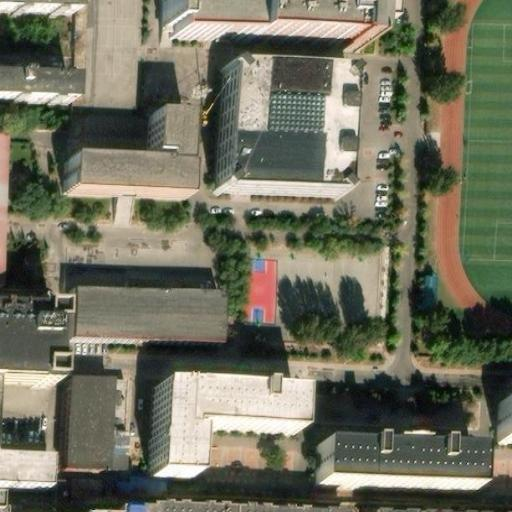building: (215, 65, 336, 196), (153, 384, 296, 478), (62, 115, 180, 198), (169, 0, 379, 43), (75, 286, 224, 343), (315, 444, 475, 491), (70, 377, 116, 471), (158, 496, 358, 512), (0, 73, 73, 105), (0, 442, 34, 483), (0, 136, 8, 284), (493, 395, 512, 443), (111, 501, 146, 512), (76, 506, 112, 512)
